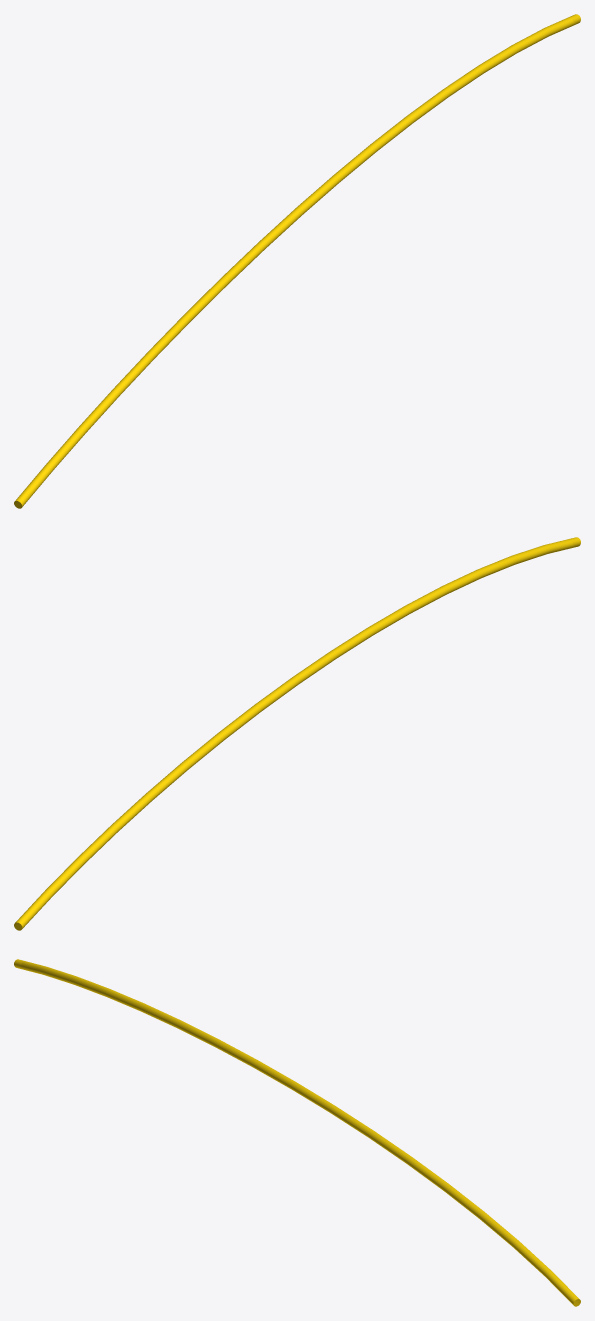
The model's file is Event_421115418_track_30.fbx.
3 views of the same model, one above another, from view 1: azimuth 30°, elevation 25°; view 2: azimuth 210°, elevation 25°; view 3: azimuth 270°, elevation 25° (orthographic). The views are drawn at different scales.
Visible parts, largest first — view 1: Model; view 2: Model; view 3: Model.
Boxes of the visible parts, <box> form: Model: <box>14,14,580,508</box>; Model: <box>14,537,580,930</box>; Model: <box>14,959,580,1306</box>.
Bounding box in the file's own units: 4.16 × 0.4103 × 2.57.
